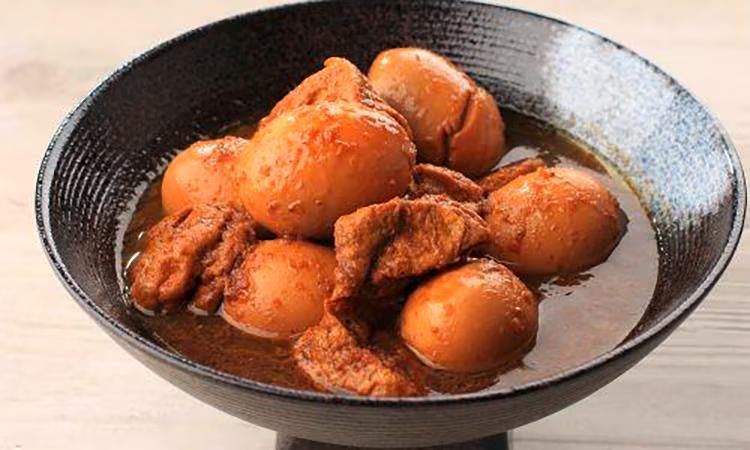telur: (172, 83, 608, 352)
